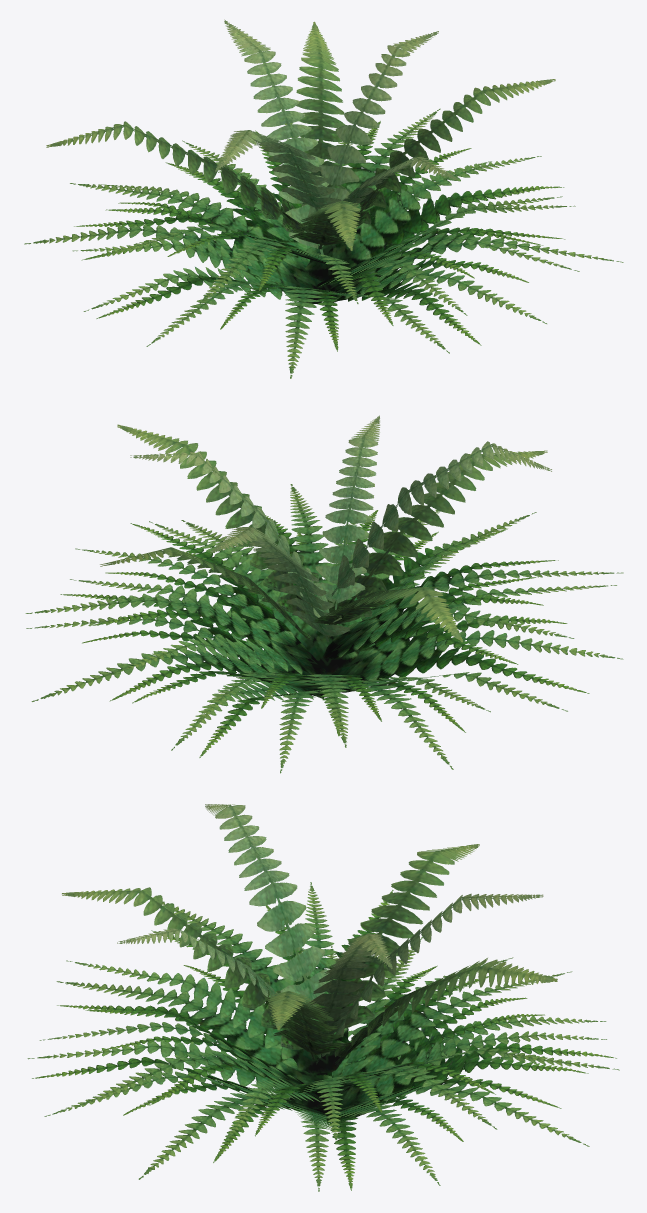
File: frst_fern_green_lg_l0.fbx
3 renders of one model, top to bottom at view 1: azimuth 30°, elevation 25°; view 2: azimuth 150°, elevation 25°; view 3: azimuth 270°, elevation 25°, orthographic. The views are drawn at different scales.
Parts seen in each view (by area): view 1: mesh_node; view 2: mesh_node; view 3: mesh_node.
Part boxes in pixels (x1,y1,x2,y2): mesh_node: (24,19,623,378); mesh_node: (25,415,623,773); mesh_node: (27,804,619,1191).
Size of the model in its own units: 3.45 by 1.59 by 3.41.
